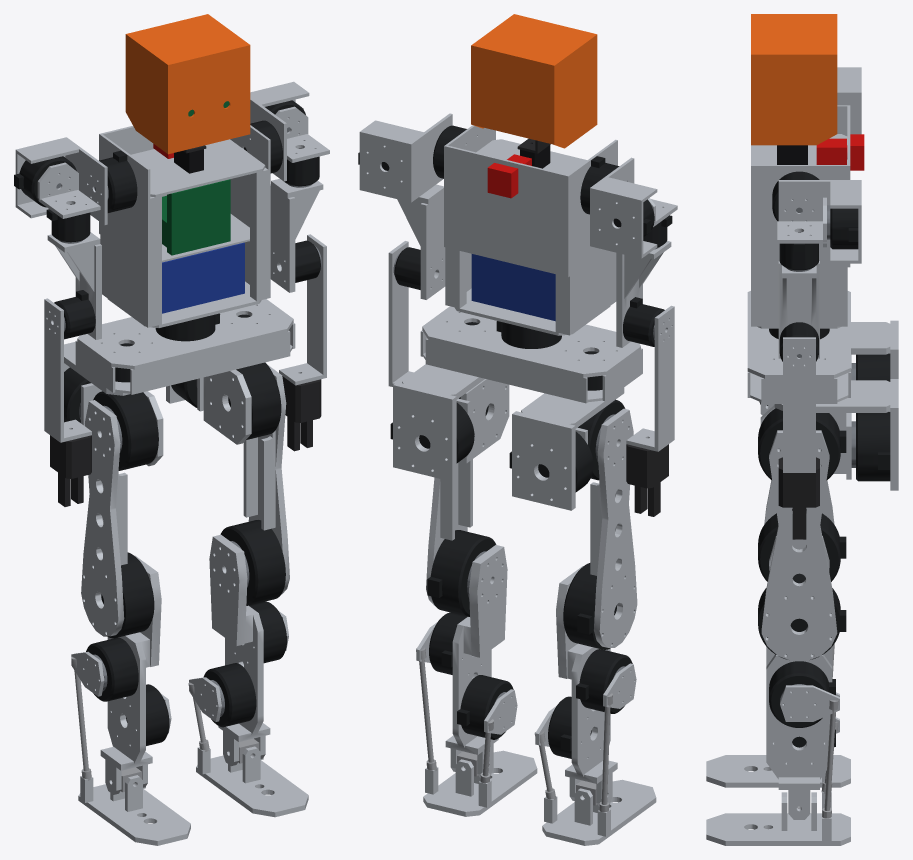
3 views of the same model, side by side, from view 1: azimuth 30°, elevation 25°; view 2: azimuth 150°, elevation 25°; view 3: azimuth 270°, elevation 25° (orthographic).
Visible parts, largest first — view 1: torso_link:alu, head_link:accent, pelvis:alu, right_thigh_link:alu, left_shin_link:alu, right_shin_link:alu, left_thigh_link:alu, left_foot_link:alu, right_foot_link:alu, torso_link:battery, torso_link:pcb, left_upper_arm_link:alu (+27 smaller); view 2: torso_link:alu, head_link:accent, pelvis:alu, right_thigh_link:alu, left_shin_link:alu, right_hip_yaw_link:alu, left_hip_yaw_link:alu, right_shin_link:alu, left_shoulder_pitch_link:alu, right_shoulder_pitch_link:alu, left_foot_link:alu, right_foot_link:alu (+22 smaller); view 3: head_link:accent, left_thigh_link:alu, torso_link:alu, left_shin_link:alu, pelvis:alu, left_foot_link:alu, left_forearm_link:alu, left_shoulder_pitch_link:alu, right_foot_link:alu, left_hip_yaw_link:alu, left_upper_arm_link:alu, left_hip_yaw_link:actuator (+19 smaller).
Part boxes in pixels (bbox=[...]): torso_link:alu: bbox=[99, 125, 270, 327]; head_link:accent: bbox=[125, 14, 250, 154]; pelvis:alu: bbox=[75, 299, 295, 394]; right_thigh_link:alu: bbox=[81, 400, 127, 636]; left_shin_link:alu: bbox=[189, 534, 288, 766]; right_shin_link:alu: bbox=[71, 555, 171, 794]; left_thigh_link:alu: bbox=[243, 365, 289, 594]; left_foot_link:alu: bbox=[196, 746, 308, 817]; right_foot_link:alu: bbox=[78, 775, 190, 845]; torso_link:battery: bbox=[162, 242, 244, 313]; torso_link:pcb: bbox=[162, 179, 230, 255]; left_upper_arm_link:alu: bbox=[270, 178, 323, 292]; torso_link:alu: bbox=[444, 125, 617, 335]; head_link:accent: bbox=[471, 14, 597, 148]; pelvis:alu: bbox=[420, 306, 642, 403]; right_thigh_link:alu: bbox=[590, 408, 637, 647]; left_shin_link:alu: bbox=[416, 545, 517, 777]; right_hip_yaw_link:alu: bbox=[512, 387, 624, 510]; left_hip_yaw_link:alu: bbox=[393, 364, 484, 481]; right_shin_link:alu: bbox=[535, 566, 636, 806]; left_shoulder_pitch_link:alu: bbox=[359, 113, 452, 202]; right_shoulder_pitch_link:alu: bbox=[590, 157, 657, 258]; left_foot_link:alu: bbox=[423, 750, 537, 816]; right_foot_link:alu: bbox=[542, 779, 656, 845]; head_link:accent: bbox=[751, 14, 837, 145]; left_thigh_link:alu: bbox=[761, 430, 837, 661]; torso_link:alu: bbox=[751, 105, 850, 328]; left_shin_link:alu: bbox=[766, 653, 839, 819]; pelvis:alu: bbox=[747, 291, 850, 403]; left_foot_link:alu: bbox=[706, 791, 850, 845]; left_forearm_link:alu: bbox=[783, 337, 815, 472]; left_shoulder_pitch_link:alu: bbox=[778, 180, 861, 263]; right_foot_link:alu: bbox=[706, 755, 850, 787]; left_hip_yaw_link:alu: bbox=[774, 379, 898, 490]; left_upper_arm_link:alu: bbox=[778, 261, 819, 358]; left_hip_yaw_link:actuator: bbox=[856, 412, 890, 481].
Size of the model in its own units: 0.4845 by 1.23 by 0.279.
